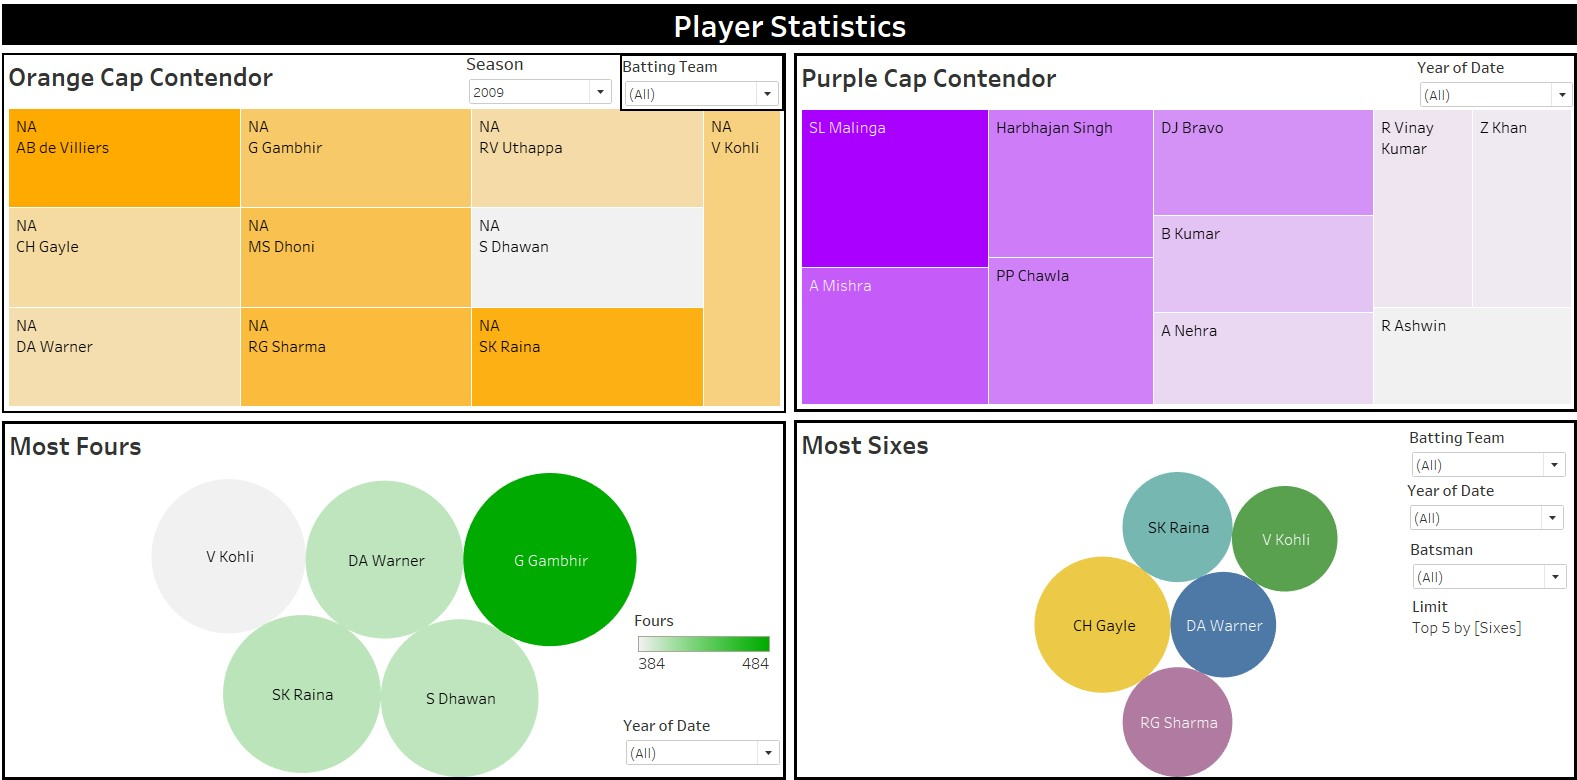

Layout of this report page (visuals, bound fields, positions):
{"tool":"tableau","page":{"name":"Player Statistics","canvas":[1600,800],"ordinal":1},"visuals":[{"type":"title","box":[8,8,1584,49]},{"type":"worksheet","title":"Orange Cap Contendor","mark":"Automatic","box":[8,57,792,367.5]},{"type":"worksheet","title":"Purple Cap Contendor","mark":"Automatic","box":[800,57,792,367.5]},{"type":"filter","title":"Orange Cap Contendor","param":"[federated.0wkk9it1j331jq12wii9s0wn6xrt].[yr:date:ok]","box":[476,59,149,56]},{"type":"filter","title":"Orange Cap Contendor","param":"[federated.0wkk9it1j331jq12wii9s0wn6xrt].[none:batting_team:nk]","box":[630,62,164,57]},{"type":"filter","title":"Purple Cap Contendor","param":"[federated.0wkk9it1j331jq12wii9s0wn6xrt].[yr:date:ok]","box":[1427,65,160,53]},{"type":"worksheet","title":"Most Fours","mark":"Circle","box":[8,424.5,792,367.5]},{"type":"worksheet","title":"Most Sixes","mark":"Circle","box":[800,424.5,792,367.5]},{"type":"filter","title":"Most Sixes","param":"[federated.0wkk9it1j331jq12wii9s0wn6xrt].[none:batting_team:nk]","box":[1419,435,160,53]},{"type":"filter","title":"Most Sixes","param":"[federated.0wkk9it1j331jq12wii9s0wn6xrt].[yr:date:ok]","box":[1417,488,160,53]},{"type":"filter","title":"Most Sixes","param":"[federated.0wkk9it1j331jq12wii9s0wn6xrt].[none:batsman:nk]","box":[1420,547,160,103]},{"type":"legend","title":"Most Fours","param":"[federated.0wkk9it1j331jq12wii9s0wn6xrt].[usr:Calculation_160159281722175488:qk]","box":[644,618,140,88]},{"type":"filter","title":"Most Fours","param":"[federated.0wkk9it1j331jq12wii9s0wn6xrt].[yr:date:ok]","box":[633,723,160,53]}]}

Visuals, with their boxes in screenshot pixels (x1, y1, x2, y2), scaled from the page's 1600x800 canvas onto the 1577x780 screenshot:
title: region(8, 8, 1569, 56)
"Orange Cap Contendor" worksheet: region(8, 56, 788, 414)
"Purple Cap Contendor" worksheet: region(788, 56, 1569, 414)
"Orange Cap Contendor" filter: region(469, 58, 616, 112)
"Orange Cap Contendor" filter: region(621, 60, 783, 116)
"Purple Cap Contendor" filter: region(1406, 63, 1564, 115)
"Most Fours" worksheet (Circle marks): region(8, 414, 788, 772)
"Most Sixes" worksheet (Circle marks): region(788, 414, 1569, 772)
"Most Sixes" filter: region(1399, 424, 1556, 476)
"Most Sixes" filter: region(1397, 476, 1554, 527)
"Most Sixes" filter: region(1400, 533, 1557, 634)
"Most Fours" legend: region(635, 603, 773, 688)
"Most Fours" filter: region(624, 705, 782, 757)
